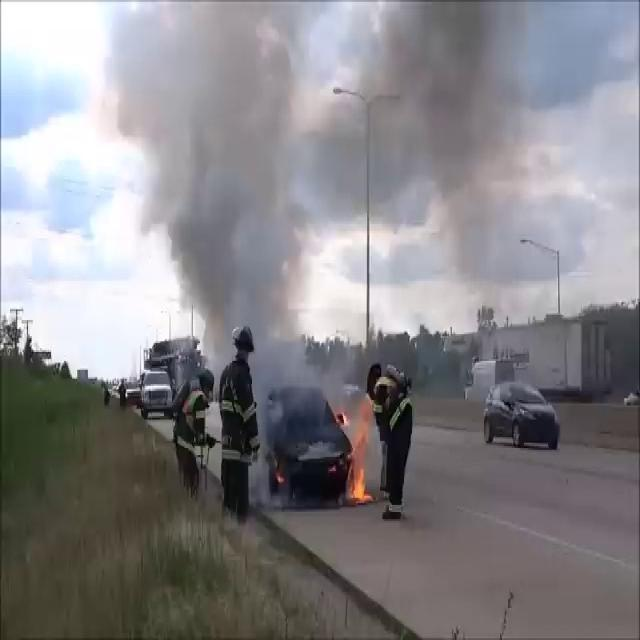Fire: (340, 392, 376, 506)
Smoke: (96, 2, 544, 336), (100, 1, 324, 372)
